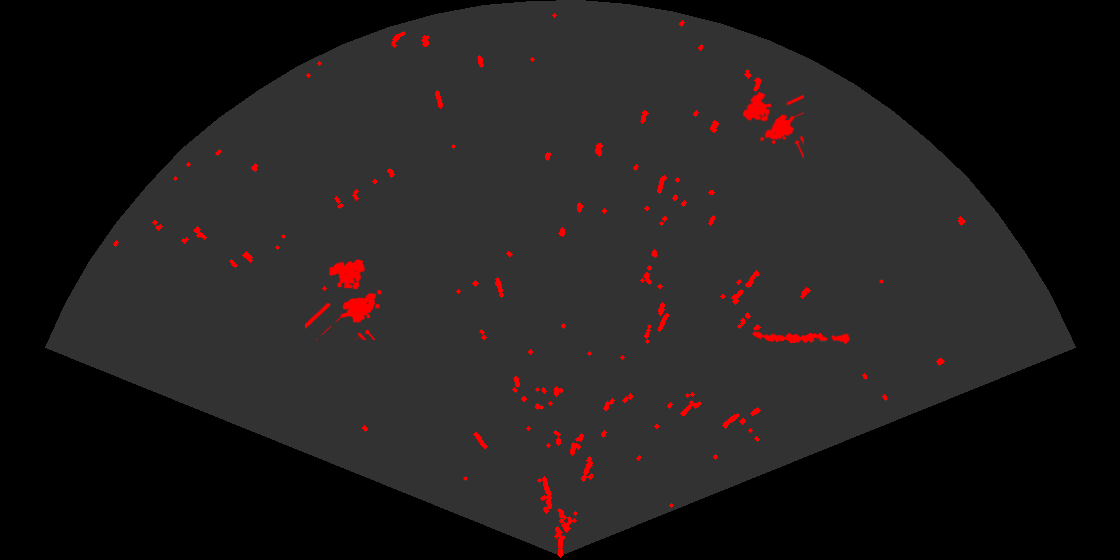cage: (305, 258, 383, 340), (741, 90, 804, 161)
chain: (750, 330, 850, 346)
